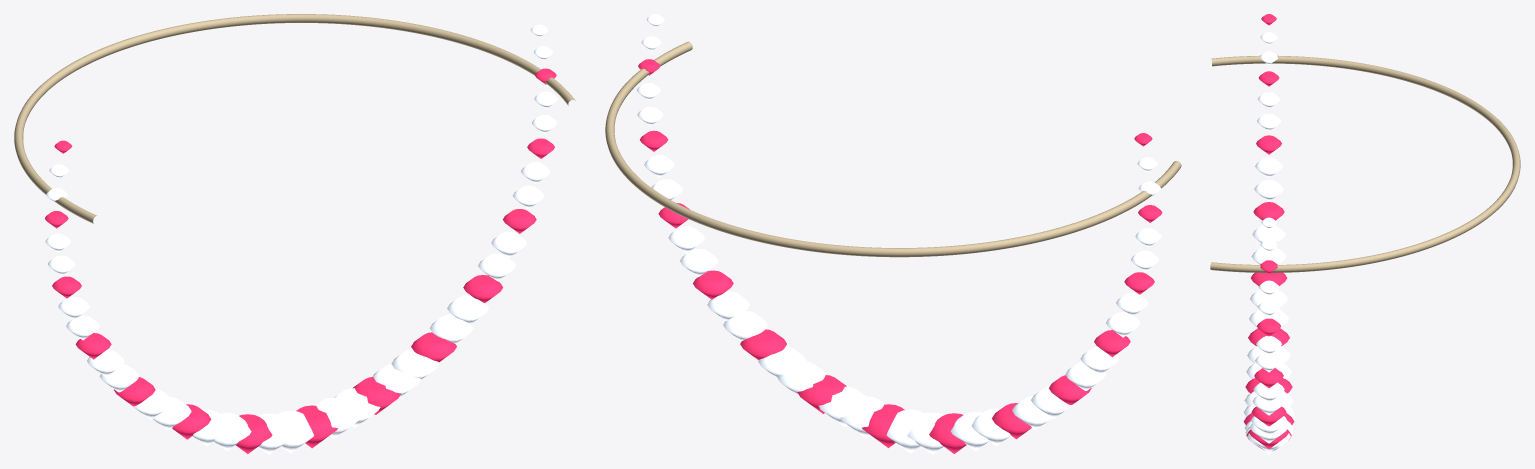
File: necklace.glb
3 renders of one model, left to right at view 1: azimuth 30°, elevation 25°; view 2: azimuth 150°, elevation 25°; view 3: azimuth 270°, elevation 25°, orthographic. The views are drawn at different scales.
Visible parts, largest first — view 1: jewel; view 2: jewel; view 3: jewel.
Boxes of the visible parts, <box> form: jewel: <box>14,14,575,454</box>; jewel: <box>605,14,1181,454</box>; jewel: <box>1210,14,1520,454</box>.
Bounding box in the file's own units: 4.59 × 3.15 × 2.76.
